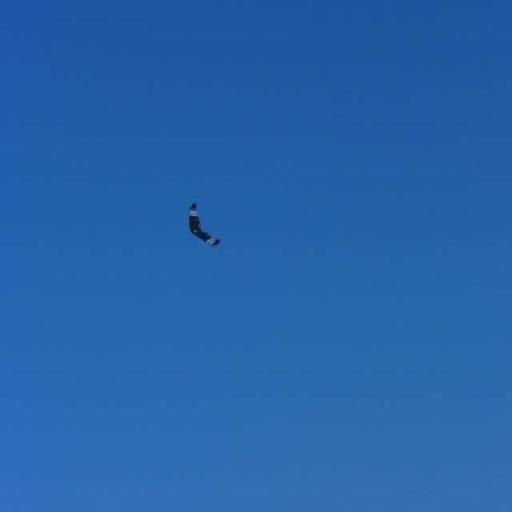uav: (186, 196, 224, 262)
